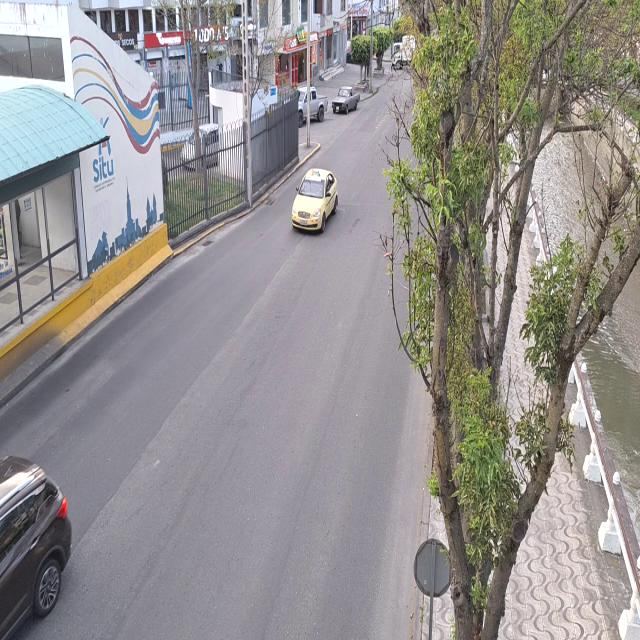CMT: (298, 86, 328, 122), (331, 84, 361, 115)
SED: (291, 167, 339, 234)
